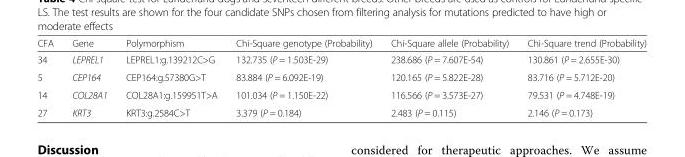table: (36, 36, 645, 117)
table column: (226, 36, 380, 117), (380, 36, 517, 117), (517, 36, 645, 117), (115, 36, 226, 117), (62, 36, 115, 117), (36, 36, 62, 117)
table column header: (36, 36, 645, 50)
table row: (36, 50, 645, 68), (36, 85, 645, 103), (36, 68, 645, 85), (36, 36, 645, 50), (36, 103, 645, 117)
